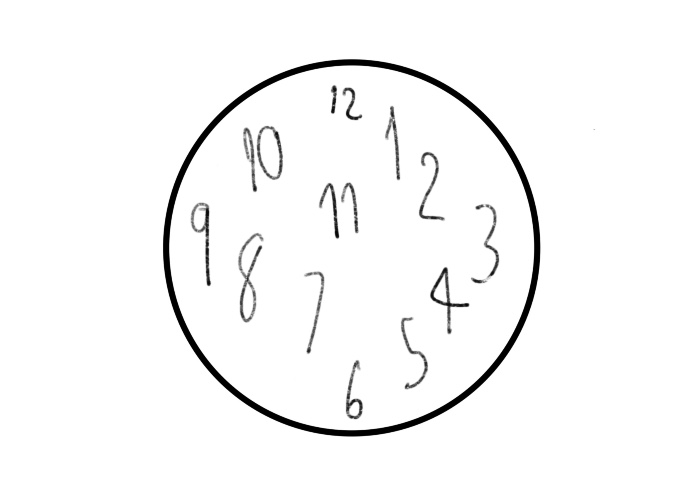eight: (232, 230, 266, 323)
eleven: (316, 182, 364, 243)
five: (394, 309, 430, 394)
four: (430, 261, 470, 340)
nine: (188, 198, 217, 290)
one: (384, 101, 404, 181)
seven: (296, 264, 325, 359)
six: (345, 354, 367, 424)
ten: (237, 124, 289, 193)
three: (473, 198, 502, 287)
twelve: (327, 80, 363, 122)
two: (416, 145, 448, 224)
